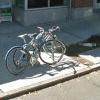Bicycle: (1, 24, 76, 73)
